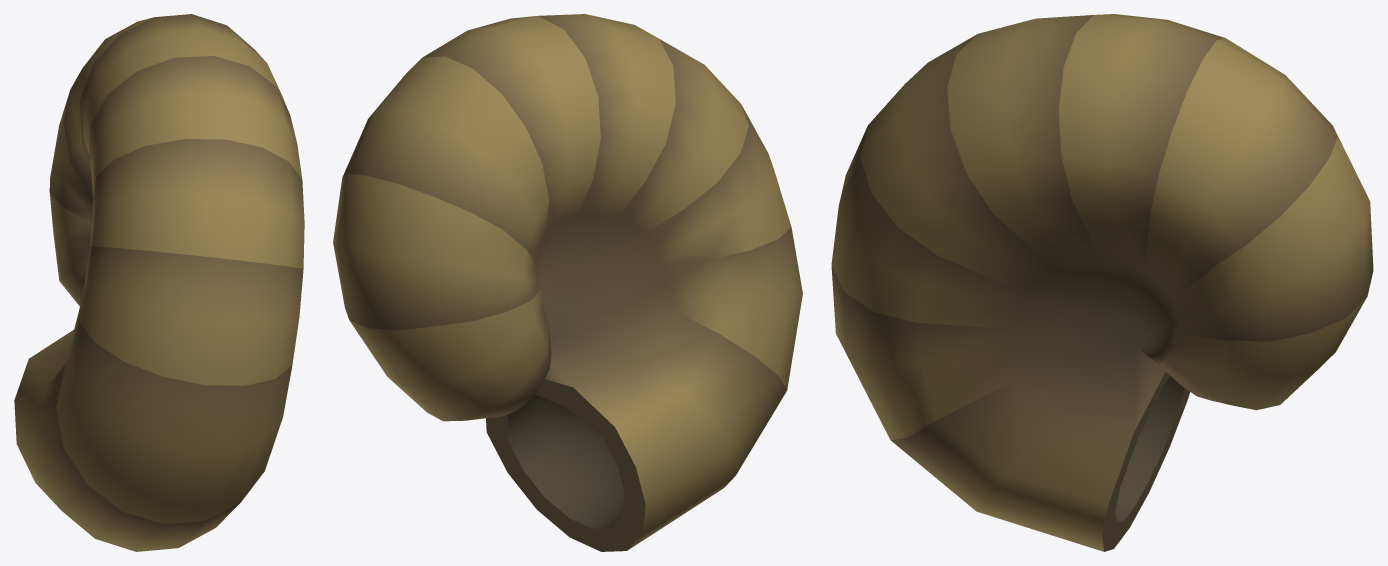
Rendered from microscopic-plankton-shell-amoeba_v1.glb.
3 views of the same model, side by side, from view 1: azimuth 30°, elevation 25°; view 2: azimuth 150°, elevation 25°; view 3: azimuth 270°, elevation 25° (orthographic). The views are drawn at different scales.
Visible parts, largest first — view 1: Shell Amoeba; view 2: Shell Amoeba; view 3: Shell Amoeba.
Part boxes in pixels (bbox=[...]): Shell Amoeba: bbox=[14, 14, 304, 551]; Shell Amoeba: bbox=[333, 14, 802, 551]; Shell Amoeba: bbox=[831, 14, 1373, 551].
Bounding box in the file's own units: 0.3228 × 0.5 × 0.4502.
